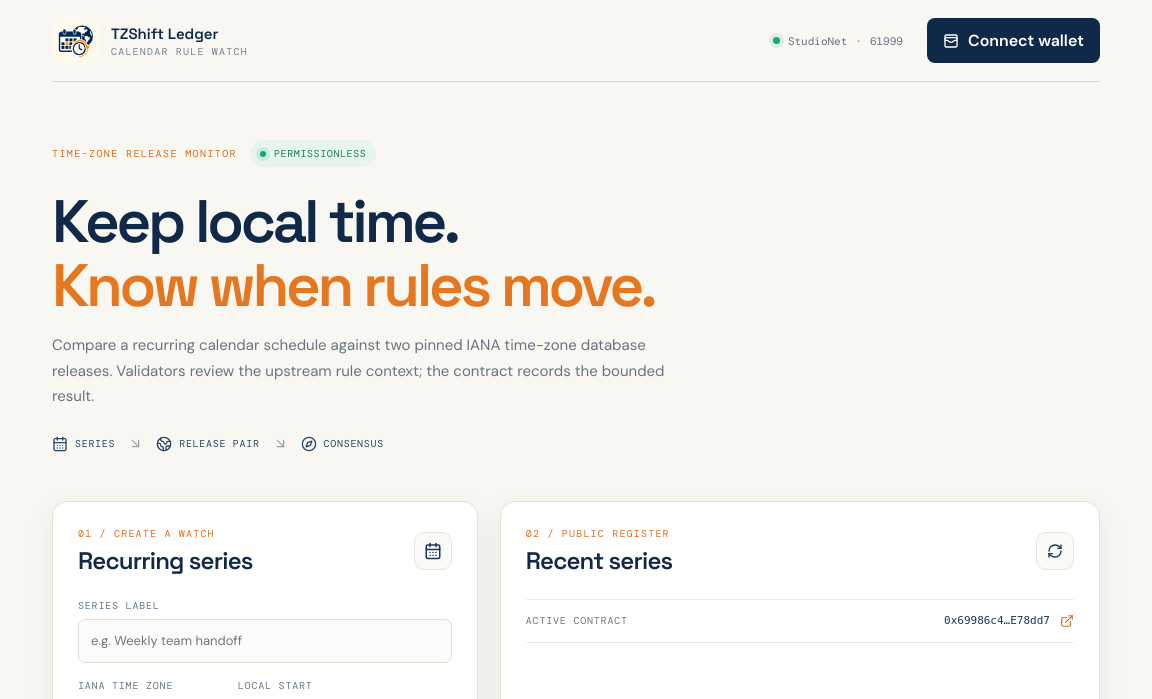
it: canonical transaction reconciliation › clears the actor when the wallet leaves StudioNet
This screenshot has width=1152, height=699.
Click the button "Connect wallet" at point(1013, 40), box [927, 18, 1100, 63]
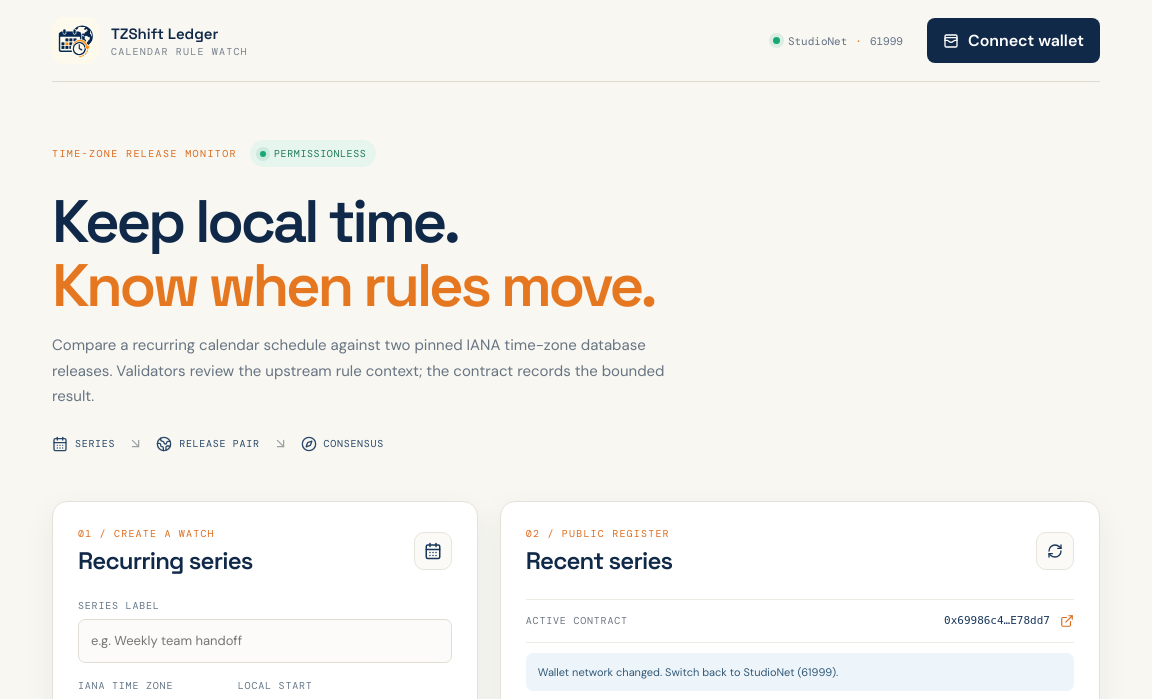
Expected: the text "Wallet network changed. Switch back to StudioNet (61999)." is shown, [526, 652, 1074, 691]
